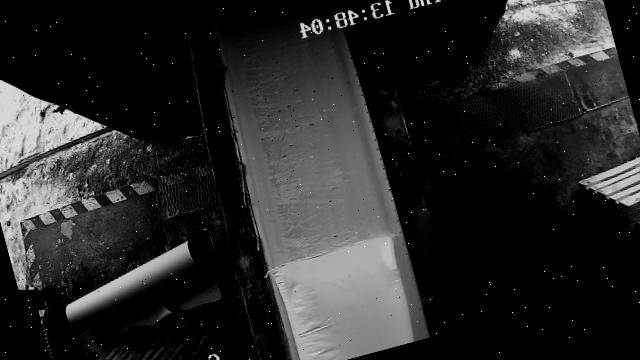bag: (265, 233, 418, 360)
